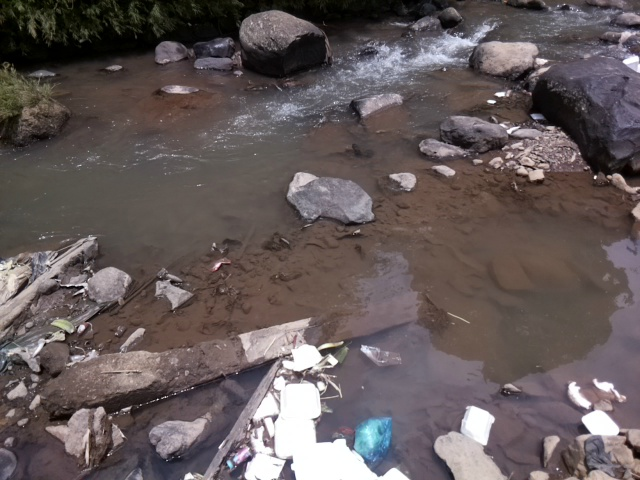Sampah_Botol_Plastik: (225, 444, 251, 471)
Sampah_Plastik: (353, 415, 394, 463)
Sampah_Styrofoam: (272, 383, 357, 480), (459, 404, 494, 445), (276, 347, 326, 373), (579, 409, 624, 437), (248, 454, 285, 480)
